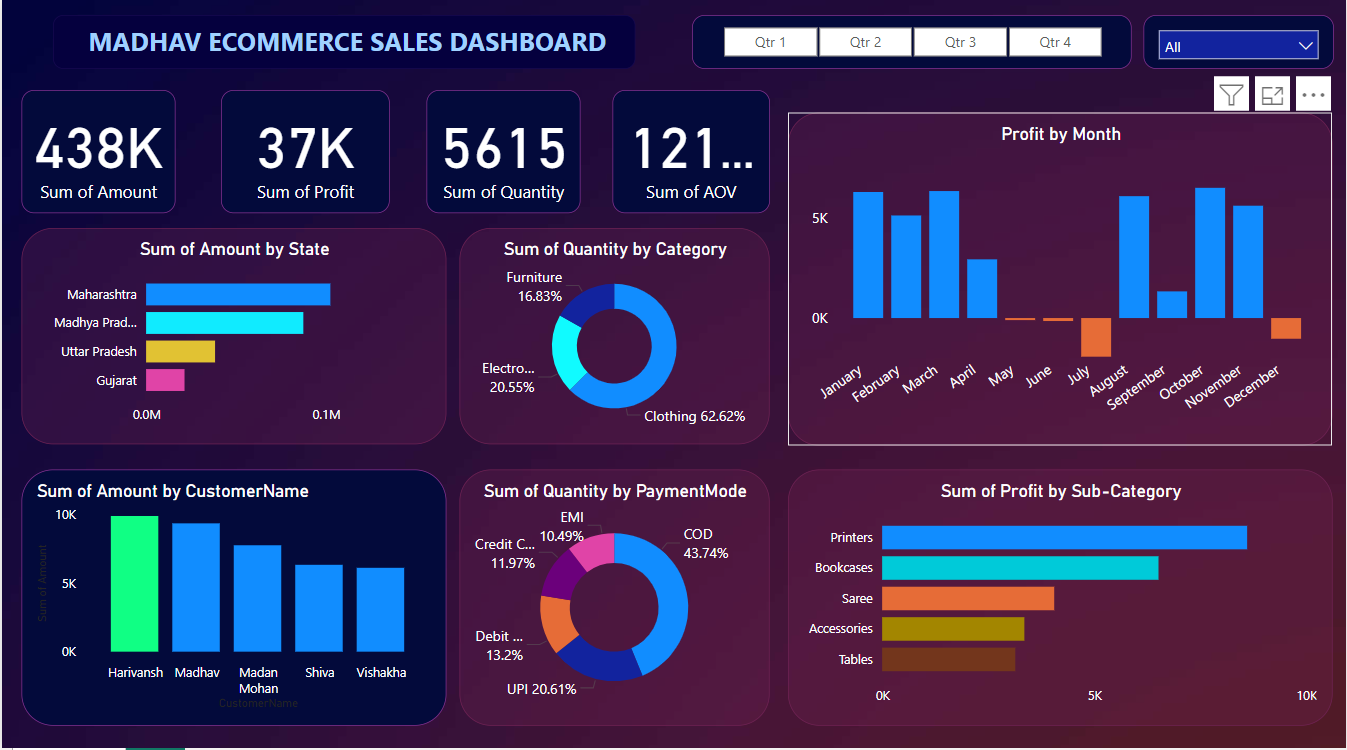

This screenshot's page, from the dashboard's own definition file:
{"tool":"powerbi","page":{"name":"Page 1","canvas":[1280,720],"ordinal":0},"visuals":[{"type":"columnChart","title":"Profit by Month","fields":{"Category":["Orders.Order Date.Variation.Date Hierarchy.Month"],"Y":["Sum(Details.Profit)"]},"box":[748.7,109.4,518.9,317.3],"z":0},{"type":"barChart","fields":{"Y":["Sum(Details.Profit)"],"Category":["Details.Sub-Category"]},"box":[748.7,450.1,518.9,243.8],"z":1000},{"type":"donutChart","fields":{"Category":["Details.Category"],"Y":["Sum(Details.Quantity)"]},"box":[436.1,220.4,295.4,206.3],"z":2000},{"type":"donutChart","fields":{"Category":["Details.PaymentMode"],"Y":["Sum(Details.Quantity)"]},"box":[436.1,450.1,295.4,243.8],"z":3000},{"type":"card","fields":{"Values":["Sum(Details.Amount)"]},"box":[18.8,89.1,146.9,117.2],"z":4000},{"type":"textbox","box":[48.5,17.2,554.9,51.6],"z":5000},{"type":"card","fields":{"Values":["Sum(Details.Profit)"]},"box":[207.9,89.1,161,117.2],"z":6000},{"type":"card","fields":{"Values":["Sum(Details.Quantity)"]},"box":[404.8,89.1,146.9,117.2],"z":7000},{"type":"card","fields":{"Values":["Sum(Details.AOV)"]},"box":[581.4,89.1,150,117.2],"z":8000},{"type":"barChart","fields":{"Category":["Orders.State"],"Y":["Sum(Details.Amount)"]},"box":[18.8,220.4,404.8,206.3],"z":9000},{"type":"columnChart","fields":{"Category":["Orders.CustomerName"],"Y":["Sum(Details.Amount)"]},"box":[18.8,450.1,404.8,243.8],"z":10000},{"type":"slicer","fields":{"Values":["Orders.Order Date.Variation.Date Hierarchy.Quarter"]},"box":[656.5,17.2,418.9,51.6],"z":11000},{"type":"slicer","fields":{"Values":["Orders.State"]},"box":[1086.6,17,181.4,51],"z":12000}]}

Visuals, with their boxes in screenshot pixels (x1, y1, x2, y2), scaled from the page's 1280x720 canvas onto the 1347x750 screenshot:
"Profit by Month" columnChart: l=788, t=114, r=1334, b=444
barChart - Sum(Details.Profit) x Details.Sub-Category: l=788, t=469, r=1334, b=723
donutChart - Details.Category x Sum(Details.Quantity): l=459, t=230, r=770, b=444
donutChart - Details.PaymentMode x Sum(Details.Quantity): l=459, t=469, r=770, b=723
card - Sum(Details.Amount): l=20, t=93, r=174, b=215
textbox: l=51, t=18, r=635, b=72
card - Sum(Details.Profit): l=219, t=93, r=388, b=215
card - Sum(Details.Quantity): l=426, t=93, r=581, b=215
card - Sum(Details.AOV): l=612, t=93, r=770, b=215
barChart - Orders.State x Sum(Details.Amount): l=20, t=230, r=446, b=444
columnChart - Orders.CustomerName x Sum(Details.Amount): l=20, t=469, r=446, b=723
slicer - Orders.Order Date.Variation.Date Hierarchy.Quarter: l=691, t=18, r=1132, b=72
slicer - Orders.State: l=1143, t=18, r=1334, b=71
